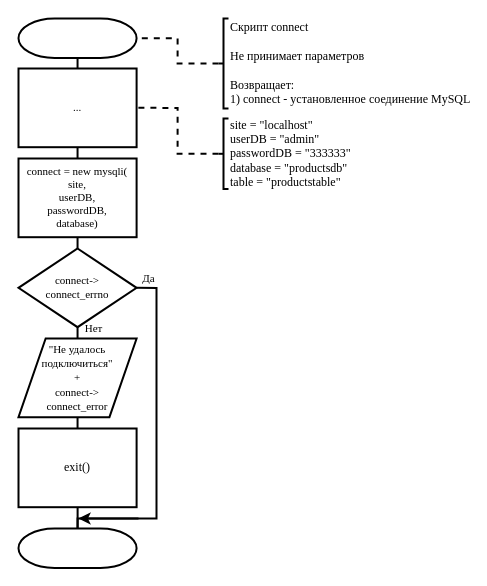
Image size: 487x586. Some labels were removed from this diagram. Here are the shapes that lost their labels. From the top down, the box of each, then its label:
(17, 17, 137, 58): Начало
(17, 527, 137, 568): Конец
